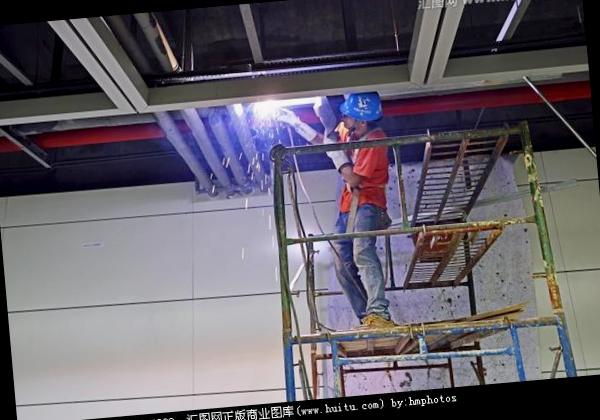helmet: (338, 83, 388, 121)
person: (311, 82, 418, 335)
